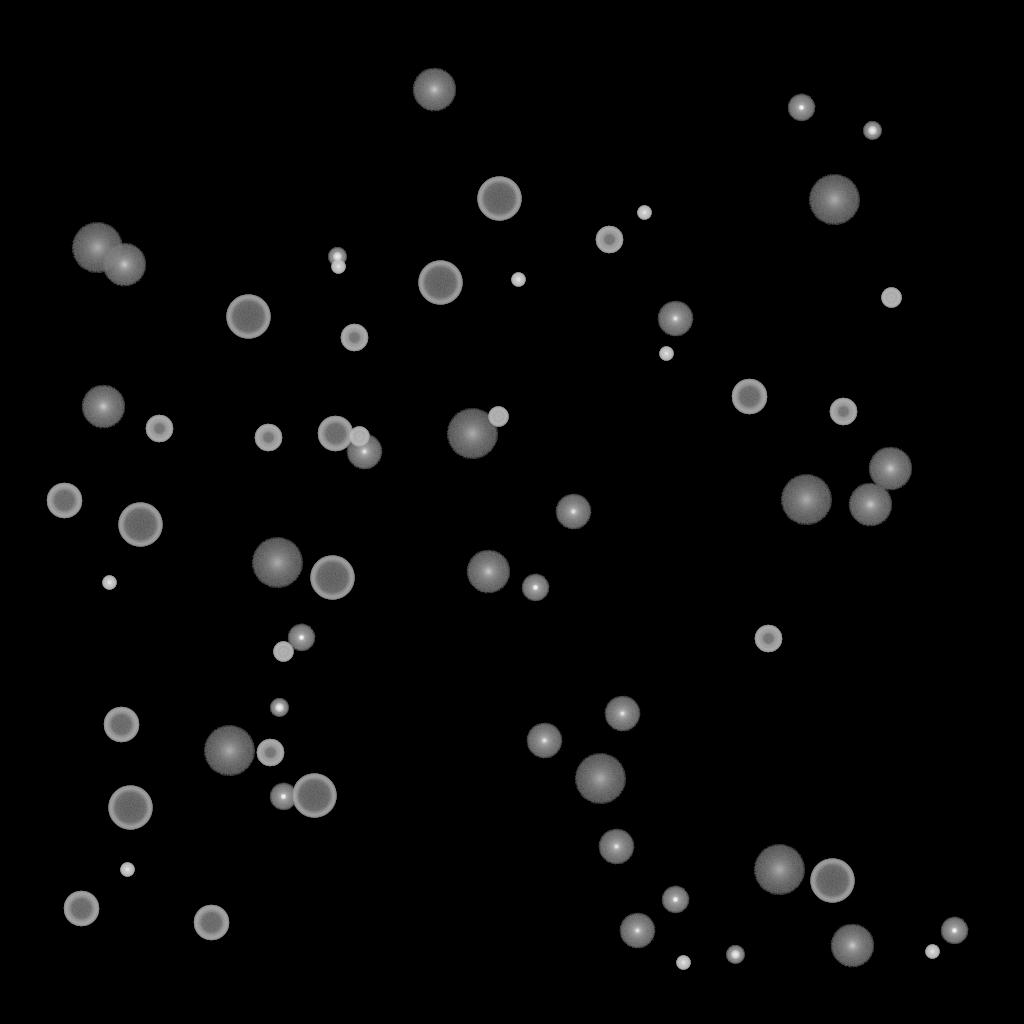depth:-10: (940, 917, 968, 945), (521, 574, 549, 602), (287, 624, 315, 652), (661, 886, 689, 914), (269, 783, 297, 811), (787, 94, 815, 122)
depth:-20: (726, 946, 744, 964), (863, 122, 881, 140), (270, 699, 288, 717), (328, 248, 346, 266)
depth:-30: (676, 956, 690, 970), (659, 347, 673, 361), (925, 945, 939, 959), (637, 206, 651, 220), (120, 863, 134, 877), (102, 576, 116, 590), (511, 273, 525, 287), (331, 260, 345, 274)
depth:-40: (273, 642, 293, 662), (881, 288, 901, 308), (349, 427, 369, 447), (488, 407, 508, 427)
depth:-50: (595, 226, 623, 254), (254, 424, 282, 452), (145, 415, 173, 443), (829, 398, 857, 426), (754, 625, 782, 653), (256, 739, 284, 767), (340, 324, 368, 352)
depth:-60: (103, 707, 139, 743), (193, 905, 229, 941), (46, 483, 82, 519), (317, 416, 353, 452), (731, 379, 767, 415), (63, 891, 99, 927)
depth:-70: (477, 177, 521, 221), (118, 503, 162, 547), (418, 261, 462, 305), (810, 859, 854, 903), (310, 556, 354, 600), (226, 295, 270, 339), (108, 786, 152, 830), (292, 774, 336, 818)
depth:0: (526, 723, 562, 759), (598, 829, 634, 865), (555, 494, 591, 530), (346, 434, 382, 470), (604, 696, 640, 732), (619, 913, 655, 949), (657, 301, 693, 337)
depth:10: (412, 68, 456, 112), (868, 447, 912, 491), (466, 550, 510, 594), (81, 385, 125, 429), (830, 924, 874, 968), (848, 483, 892, 527), (102, 243, 146, 287)
depth:20: (446, 409, 498, 459), (780, 475, 832, 525), (574, 754, 626, 804), (251, 538, 303, 588), (753, 845, 805, 895), (808, 175, 860, 225), (203, 726, 255, 776), (71, 223, 123, 273)
